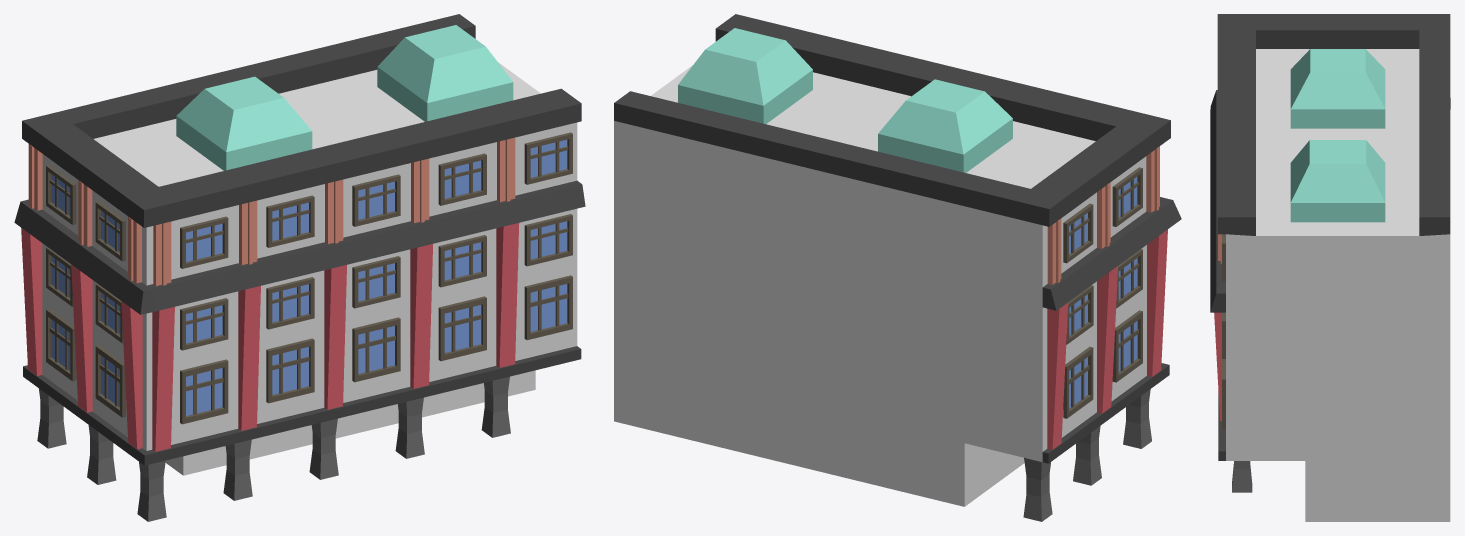
The model's file is PalazzoModAngoloSx.fbx.
The picture shows the model from 3 angles, left to right: view 1: azimuth 30°, elevation 25°; view 2: azimuth 150°, elevation 25°; view 3: azimuth 270°, elevation 25°; orthographic projection. The views are drawn at different scales.
Parts seen in each view (by area): view 1: PalazzoStatutoAngoloSx; view 2: PalazzoStatutoAngoloSx; view 3: PalazzoStatutoAngoloSx.
Part boxes in pixels (bbox=[...]): PalazzoStatutoAngoloSx: bbox=[14, 14, 585, 521]; PalazzoStatutoAngoloSx: bbox=[614, 14, 1181, 521]; PalazzoStatutoAngoloSx: bbox=[1210, 14, 1450, 521].
Bounding box in the file's own units: 2183 × 1656 × 1074.
